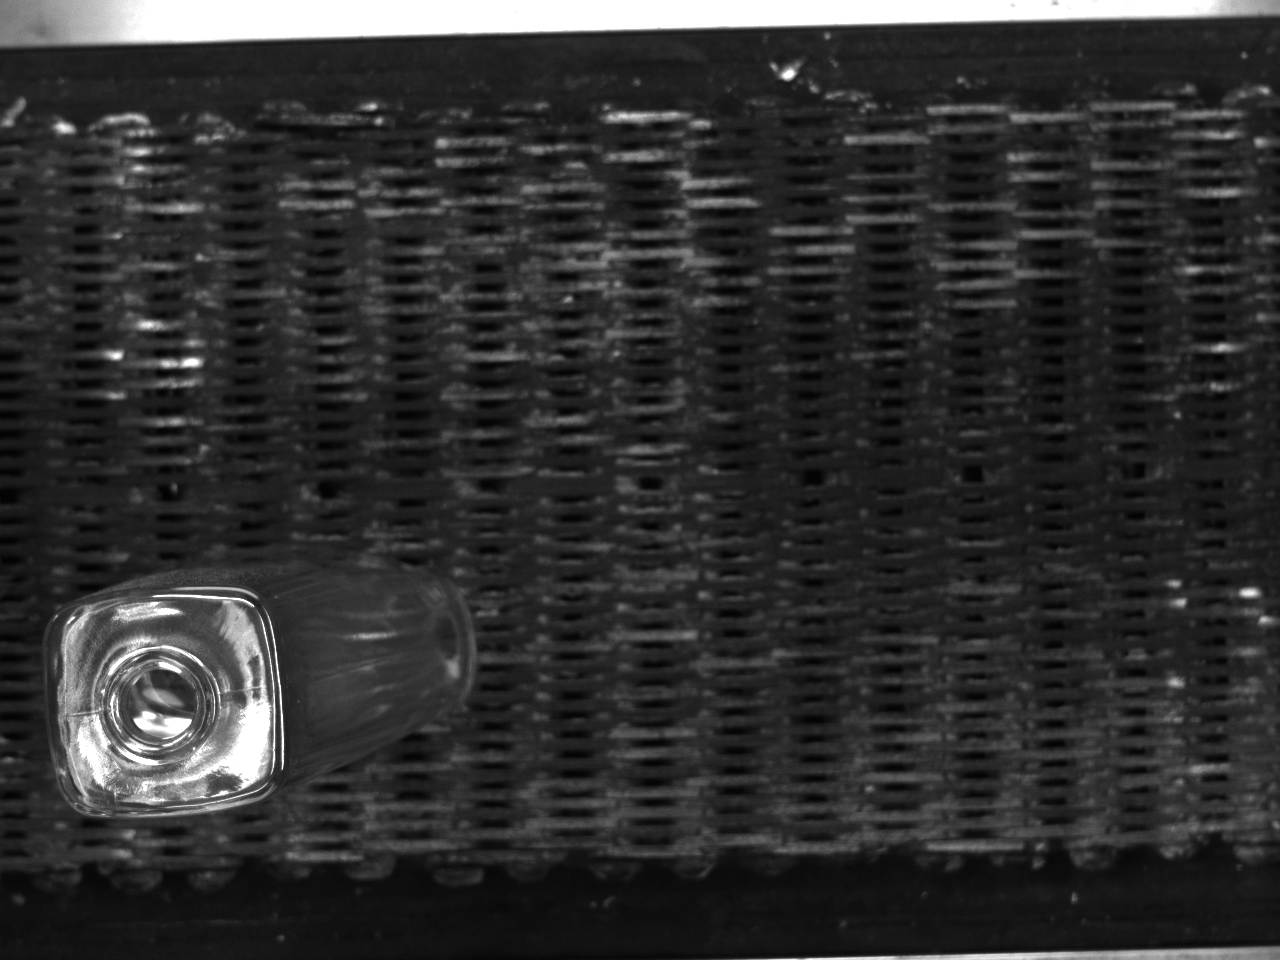bottleneck: (96, 644, 220, 760)
